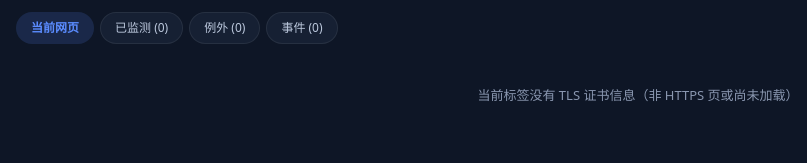
Test: 已监测页签：days_left 渲染分支（F-66 契约） › 空列表显示引导空态
What coordinates should you click on to do the following:
click the button "已监测 (0)"
I would click on:
 (142, 28)
Its box is 100,12 -> 183,44.
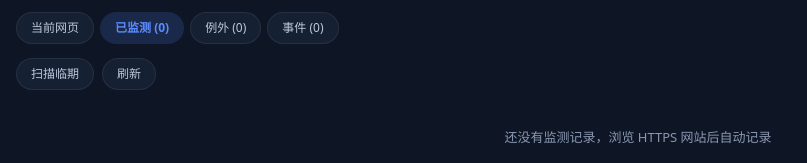
expect the text with class "cert-empty" shows "还没有监测记录": met, box 504,128 -> 772,146
